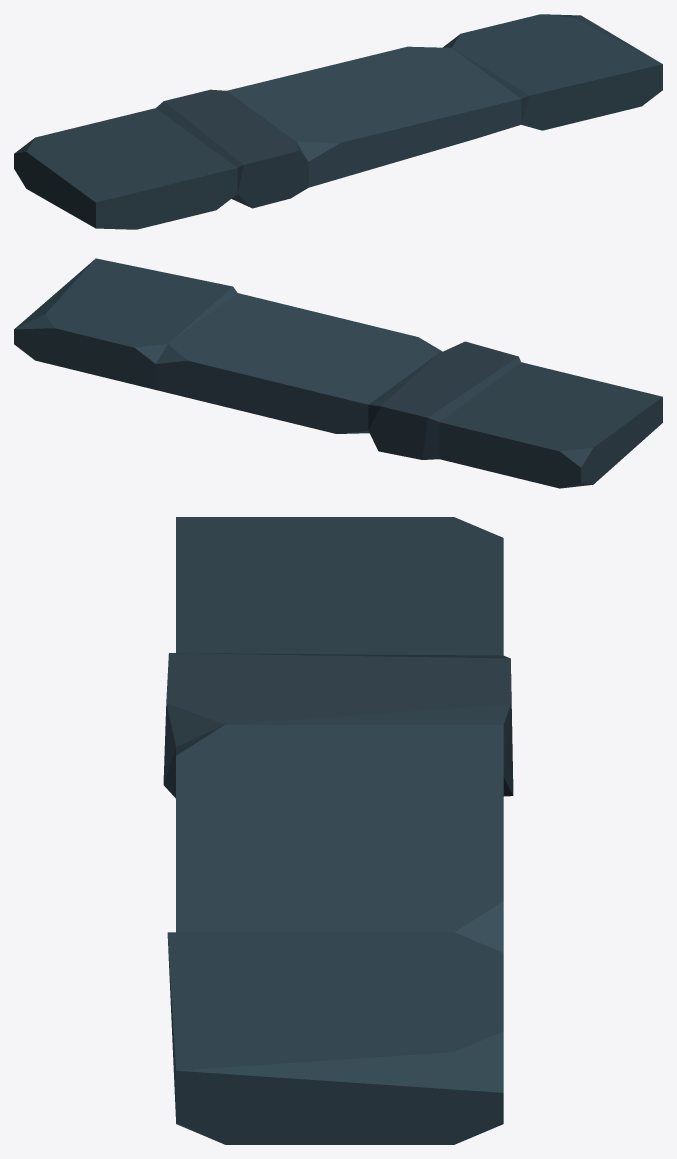
Rendered from floor_element_1x4_one_step_high.fbx.
3 views of the same model, one above another, from view 1: azimuth 30°, elevation 25°; view 2: azimuth 150°, elevation 25°; view 3: azimuth 270°, elevation 25° (orthographic). The views are drawn at different scales.
Visible parts, largest first — view 1: floor_element_1x4_one_step_high; view 2: floor_element_1x4_one_step_high; view 3: floor_element_1x4_one_step_high.
Part boxes in pixels (bbox=[...]): floor_element_1x4_one_step_high: bbox=[14, 14, 662, 229]; floor_element_1x4_one_step_high: bbox=[14, 258, 662, 488]; floor_element_1x4_one_step_high: bbox=[163, 517, 513, 1144].
Size of the model in its own units: 400 by 31.25 by 107.
